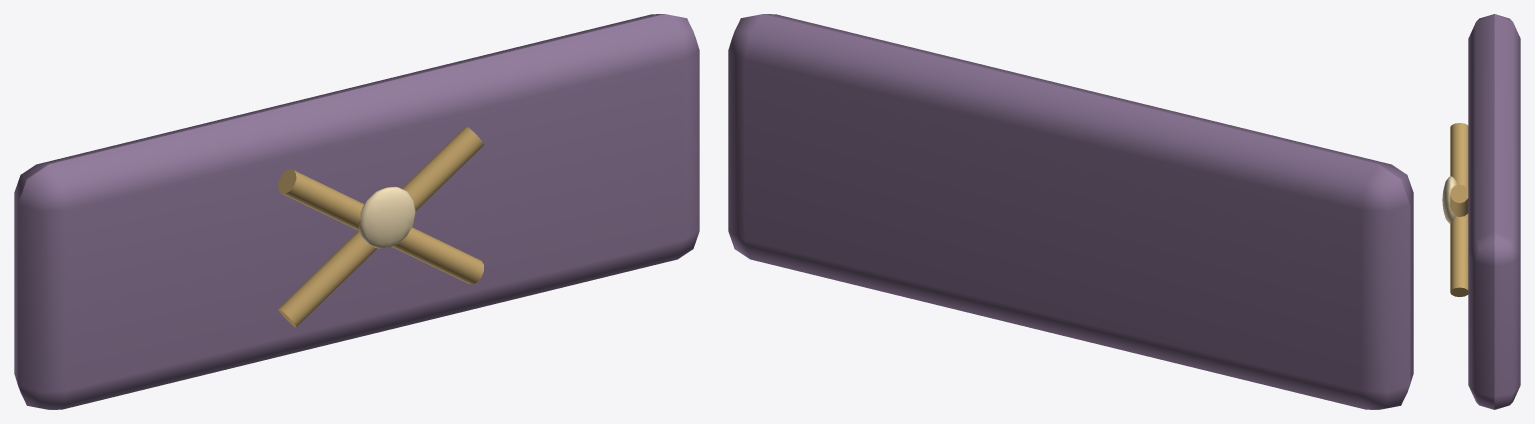
Rendered from guild-sign.glb.
The picture shows the model from 3 angles, left to right: view 1: azimuth 30°, elevation 25°; view 2: azimuth 150°, elevation 25°; view 3: azimuth 270°, elevation 25°; orthographic projection. The views are drawn at different scales.
Visible parts, largest first — view 1: guild-sign_purple, guild-sign_brass, guild-sign_cream; view 2: guild-sign_purple; view 3: guild-sign_purple, guild-sign_brass, guild-sign_cream.
Boxes of the visible parts, x1,y1,x2,y2 form: guild-sign_purple: [14, 14, 699, 409]; guild-sign_brass: [278, 126, 483, 327]; guild-sign_cream: [358, 186, 415, 248]; guild-sign_purple: [728, 14, 1413, 409]; guild-sign_purple: [1468, 14, 1520, 409]; guild-sign_brass: [1450, 123, 1468, 296]; guild-sign_cream: [1442, 176, 1457, 223].
Size of the model in its own units: 1.3 by 0.45 by 0.18.
